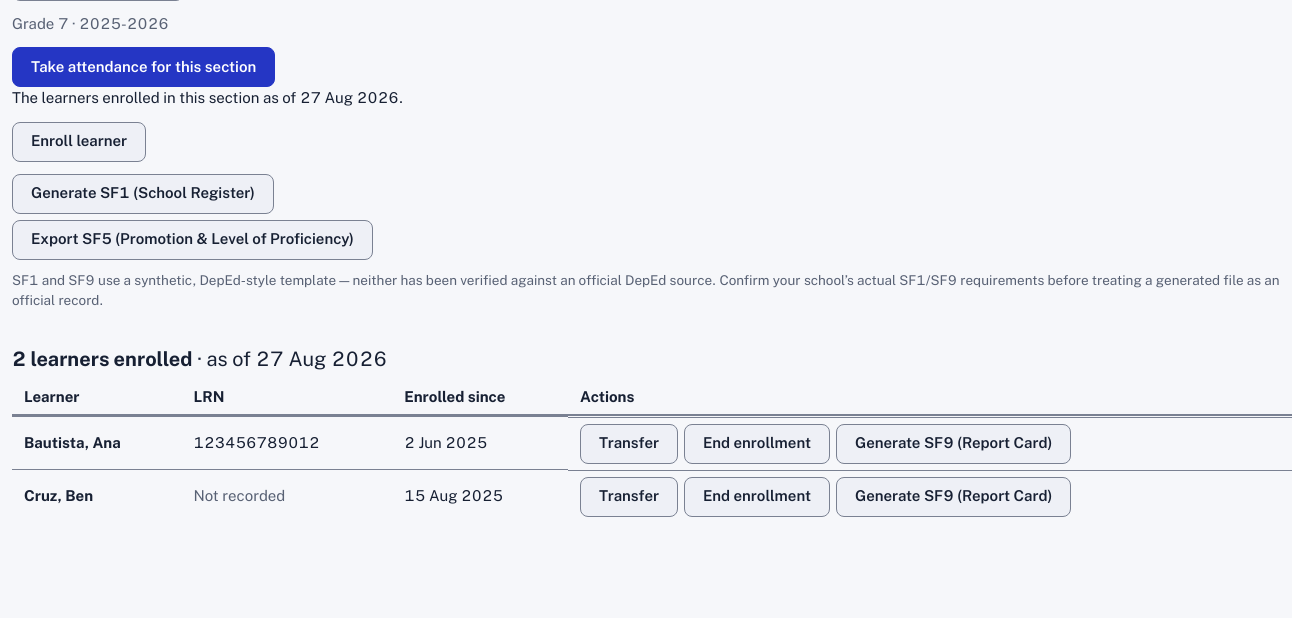
Scenario: SectionRosterScreen › shows a stale-conflict recovery when the membership already changed, then refreshes
The image size is (1292, 618).
Expected: the column heading "Bautista, Ana" is shown, left=12, top=417, right=182, bottom=470
Click the button with aria-label "Transfer Bautista, Ana": (629, 444) left=580, top=424, right=678, bottom=464
(page scrolled)
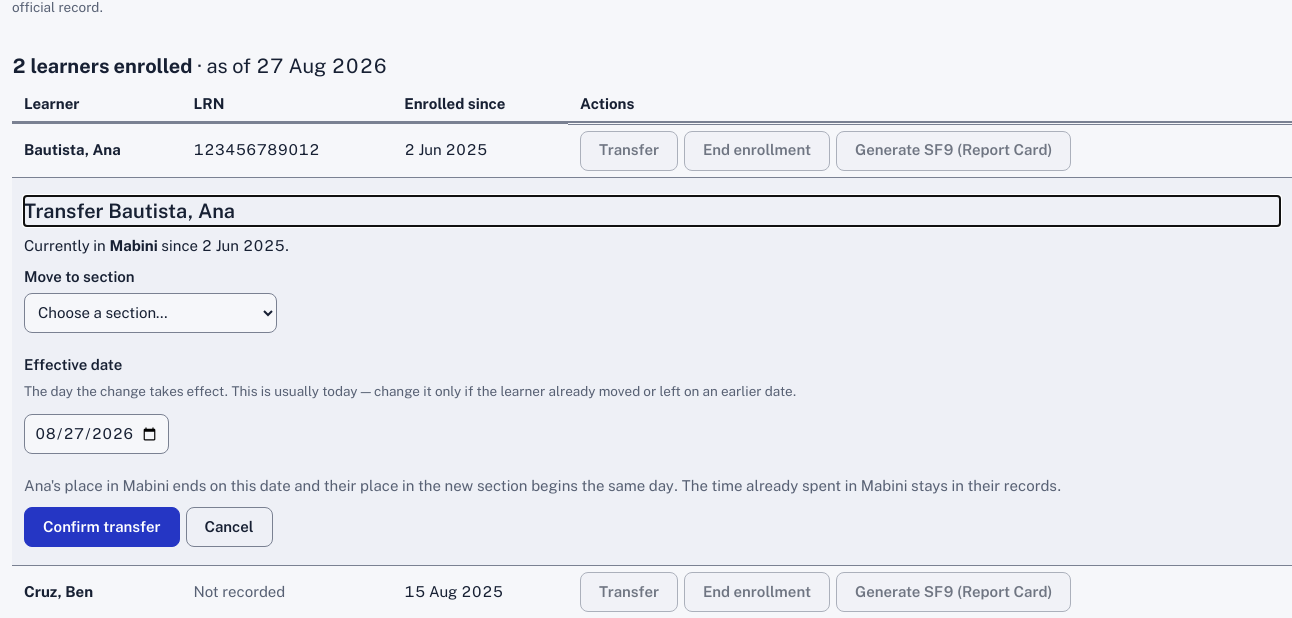
Select "Rizal — Grade 7, 2025-2026" in the dropdown labelled "Move to section": (150, 313) left=24, top=293, right=277, bottom=333
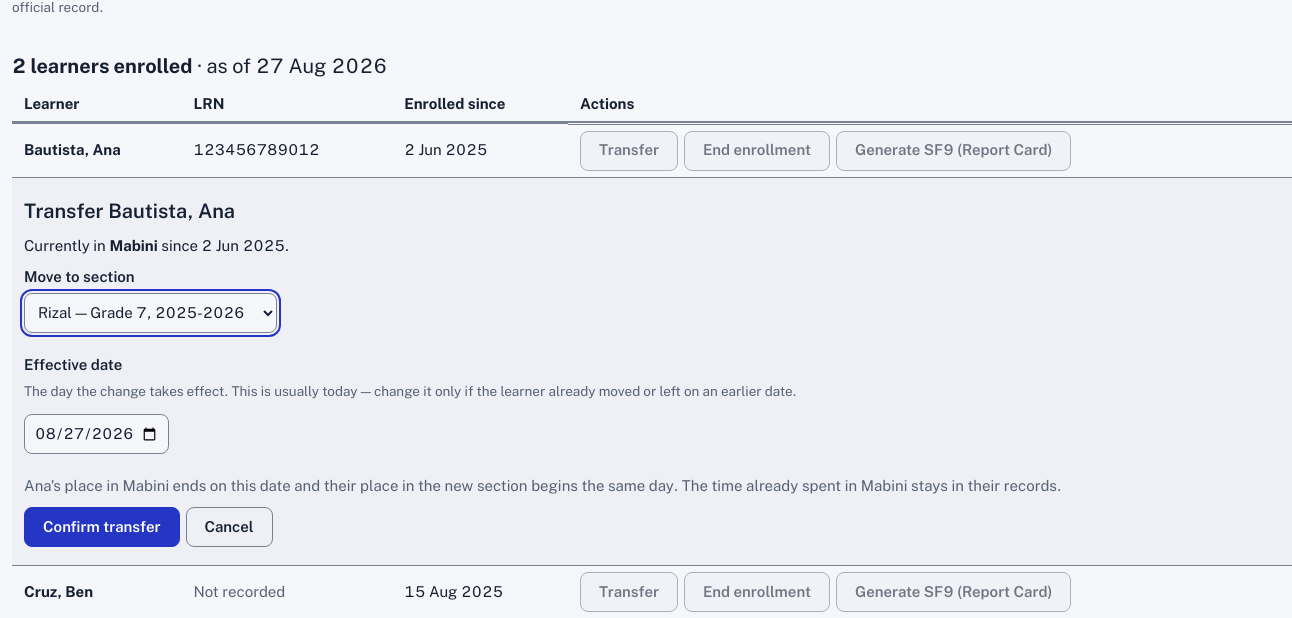
Click the button "Confirm transfer": (102, 527) left=24, top=507, right=180, bottom=547
(page scrolled)
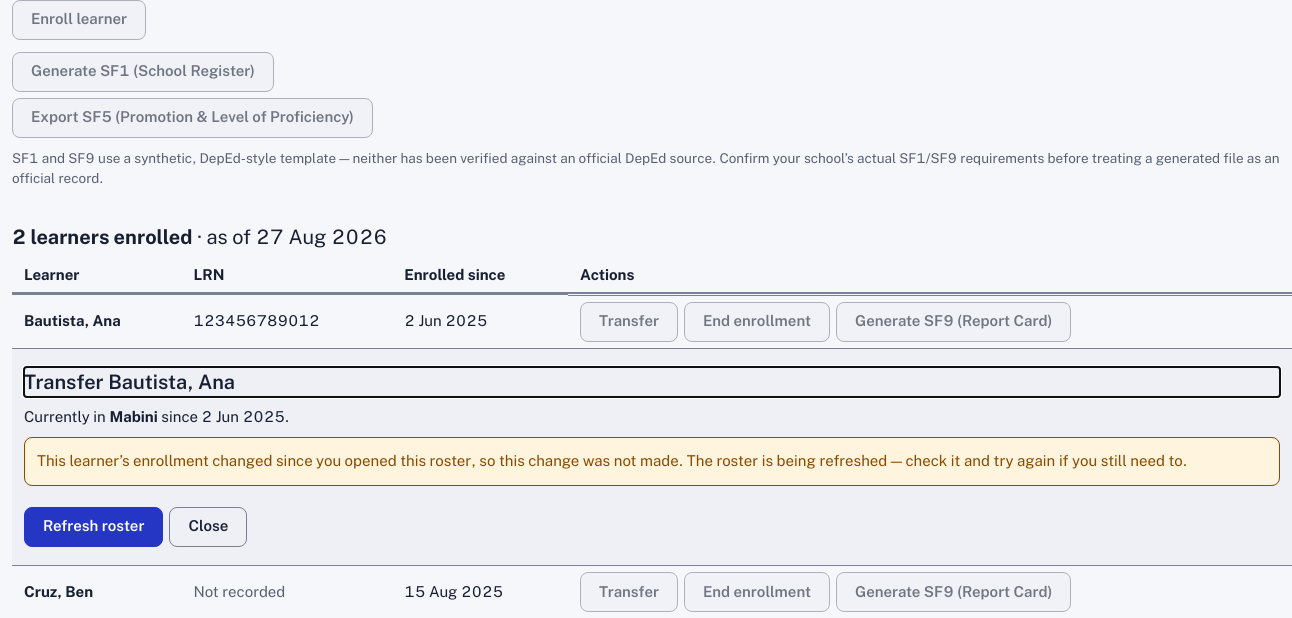
Expected: the text "enrollment changed since you opened this roster" is shown, left=37, top=452, right=1187, bottom=469
Click the button "Refresh roster": (94, 527) left=24, top=507, right=164, bottom=547
(page scrolled)
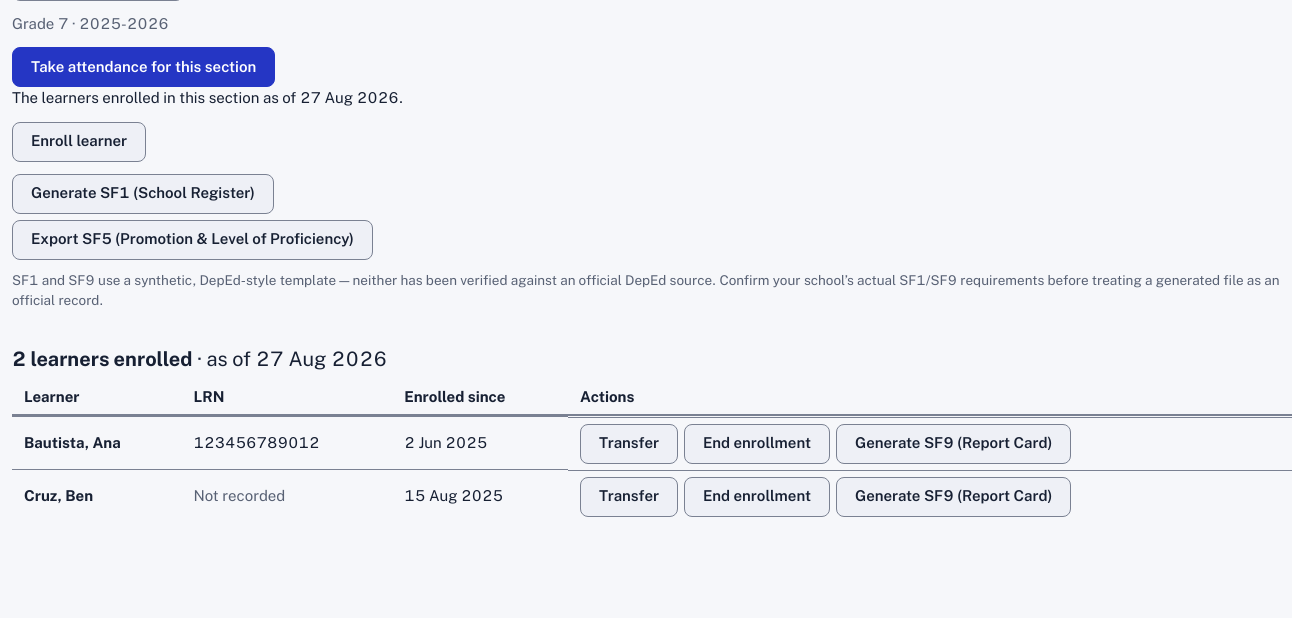
Expected: the text "enrollment changed since you opened" is gone
